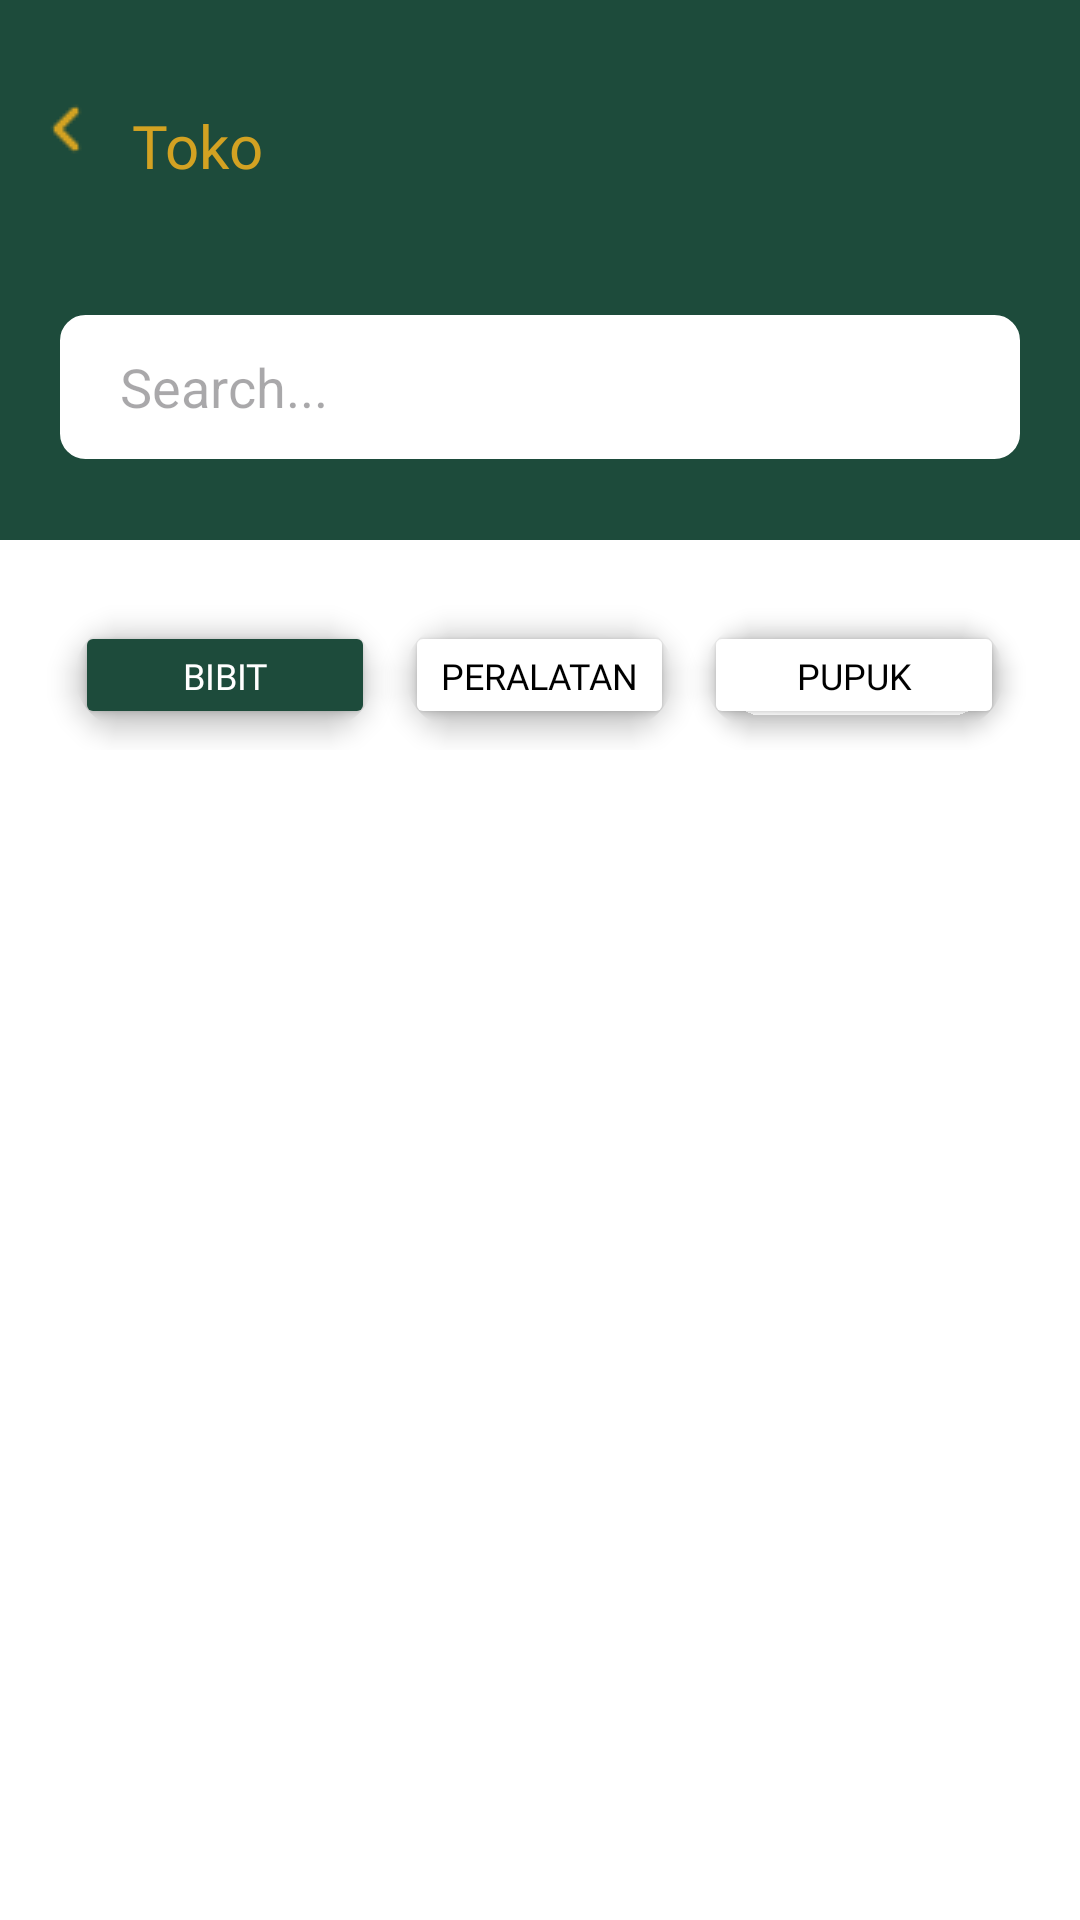

Screen size 1080 × 1920. Icon name, then its box in pixels as (x1, y1, x2, y2):
kembali: (53, 107, 79, 151)
